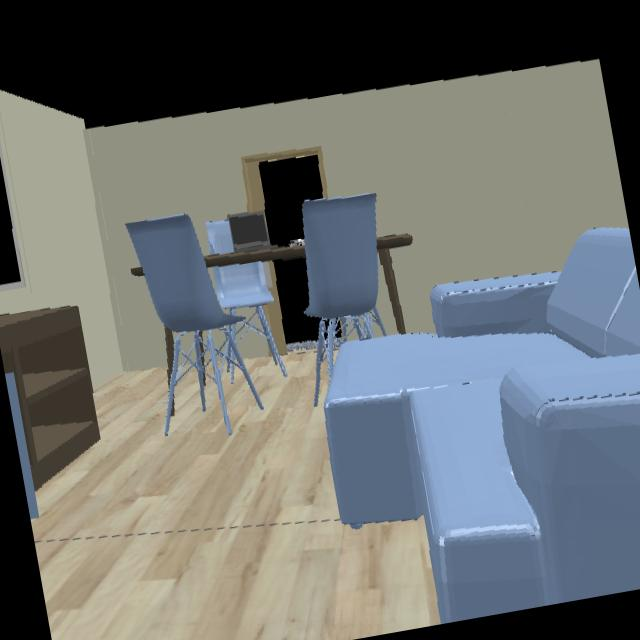book: (290, 237, 305, 247)
bookshelf: (0, 307, 100, 487)
chair: (126, 215, 271, 432), (303, 193, 386, 373), (208, 222, 235, 255)
laptop: (228, 211, 272, 253)
monitor: (0, 141, 25, 290)
sofa: (325, 229, 640, 621)
table: (377, 233, 413, 333), (205, 245, 306, 268), (164, 327, 174, 373), (130, 266, 144, 276)
